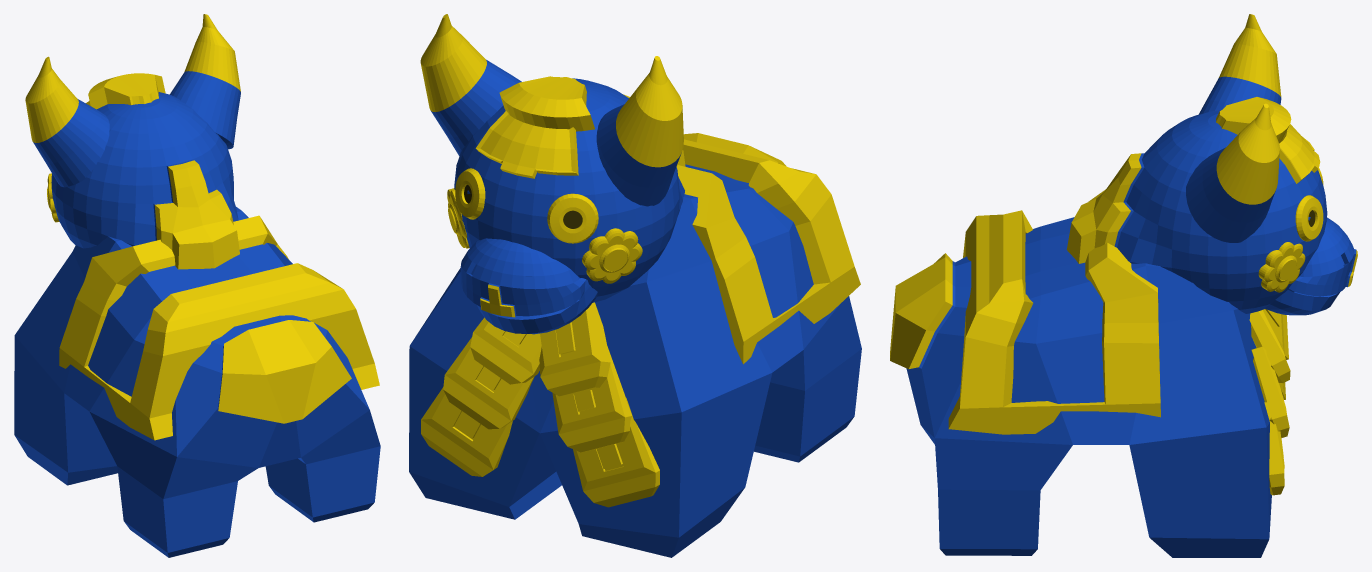
The model's file is torito.glb.
3 renders of one model, left to right at view 1: azimuth 30°, elevation 25°; view 2: azimuth 150°, elevation 25°; view 3: azimuth 270°, elevation 25°, orthographic. The views are drawn at different scales.
Parts seen in each view (by area): view 1: Cube, Cube.003, Esfera.002, Cilindro.001, Cilindro; view 2: Cube, Esfera.002, Cube.003, Cube.002, Cube.001, Esfera, Cilindro.001, Cilindro, Cylinder.007, Cylinder, Cylinder.001, Cylinder.002; view 3: Cube, Esfera.002, Cube.003, Cilindro, Esfera, Cilindro.001, Cube.001, Cylinder.002, Cylinder.001, Cube.002.
Boxes of the visible parts, box(x1,y1,x2,y2) form: Cube: box(14, 207, 380, 557); Cube.003: box(59, 215, 379, 440); Esfera.002: box(51, 73, 239, 269); Cilindro.001: box(25, 56, 109, 187); Cilindro: box(170, 14, 240, 149); Cube: box(409, 133, 861, 557); Esfera.002: box(454, 76, 685, 302); Cube.003: box(676, 139, 860, 364); Cube.002: box(539, 302, 659, 507); Cube.001: box(421, 317, 541, 476); Esfera: box(460, 238, 597, 334); Cilindro.001: box(596, 56, 683, 206); Cilindro: box(420, 14, 521, 155); Cylinder.007: box(582, 228, 642, 283); Cylinder: box(547, 193, 598, 243); Cylinder.001: box(455, 168, 485, 219); Cylinder.002: box(447, 188, 469, 248); Cube: box(890, 217, 1271, 557); Esfera.002: box(1066, 97, 1327, 313); Cube.003: box(948, 189, 1160, 434); Cilindro: box(1186, 103, 1279, 242); Esfera: box(1264, 217, 1357, 315); Cilindro.001: box(1199, 14, 1281, 114); Cube.001: box(1249, 310, 1290, 495); Cylinder.002: box(1258, 242, 1305, 292); Cylinder.001: box(1295, 195, 1323, 241); Cube.002: box(1263, 309, 1288, 399).
Size of the model in its own units: 11.2 by 17.49 by 16.67.
